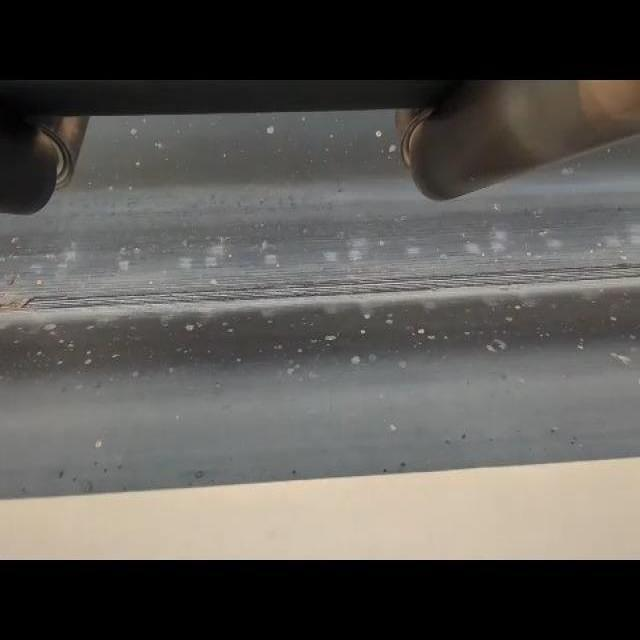Wear: (0, 258, 640, 320)
